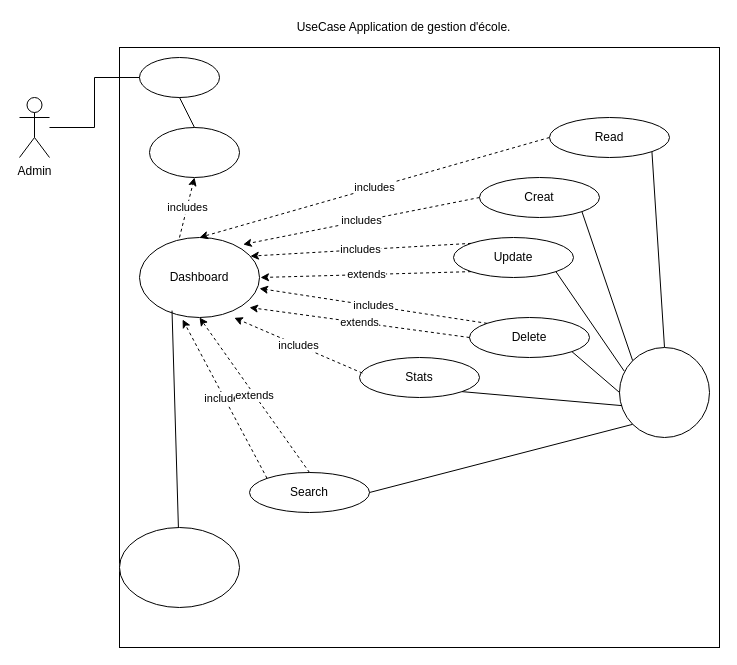
Some shapes in this 737 by 665 pixel diagram are drawn without their labels. The centre of each missing label's shape, as x and y in pixels:
"DataBase" belongs at (664,392).
"Home" belongs at (179,77).
"Log-in" belongs at (194,152).
"Log-out" belongs at (179,567).
